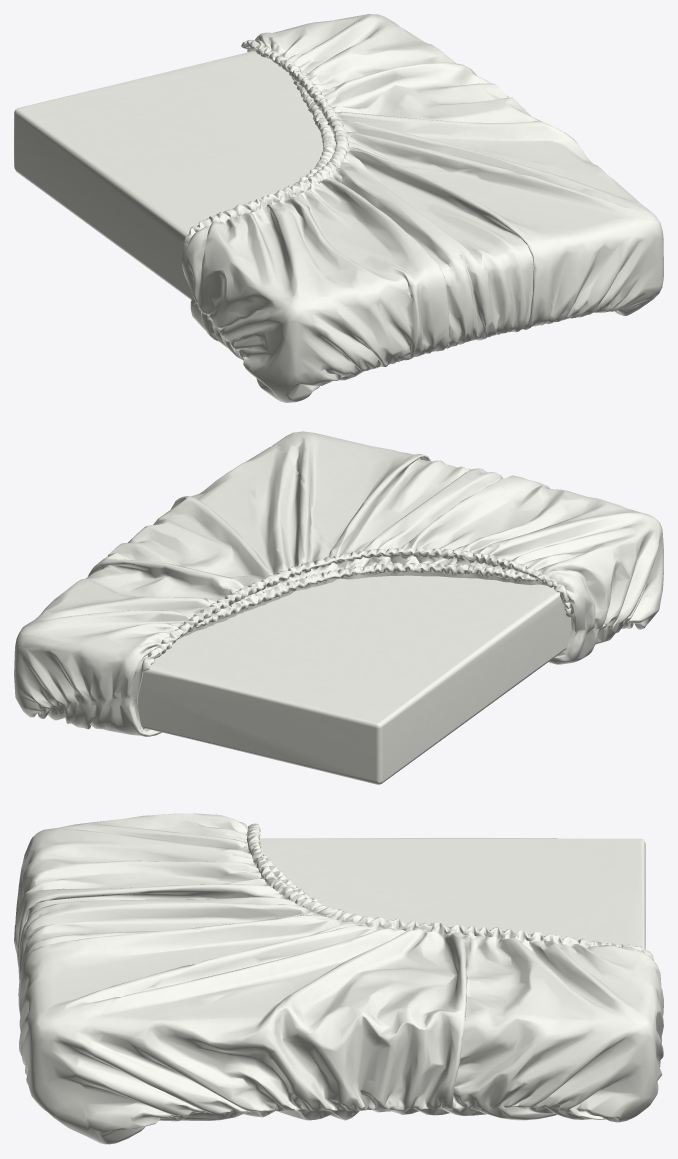
File: barglim_przescierado_z_gumka_90621444.glb
The picture shows the model from 3 angles, top to bottom: view 1: azimuth 30°, elevation 25°; view 2: azimuth 150°, elevation 25°; view 3: azimuth 270°, elevation 25°; orthographic projection. The views are drawn at different scales.
Parts seen in each view (by area): view 1: barglim_przescierado_z_gumka_90621444; view 2: barglim_przescierado_z_gumka_90621444; view 3: barglim_przescierado_z_gumka_90621444.
Part boxes in pixels (x1=…): barglim_przescierado_z_gumka_90621444: x1=14, y1=14, x2=663, y2=402; barglim_przescierado_z_gumka_90621444: x1=14, y1=431, x2=663, y2=784; barglim_przescierado_z_gumka_90621444: x1=14, y1=813, x2=663, y2=1144.
Bounding box in the file's own units: 0.3407 × 0.107 × 0.4286.
1 material, 1 textured.
